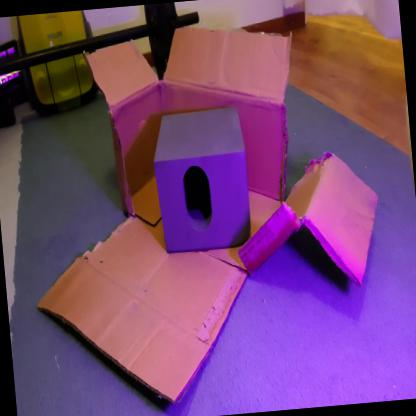CornerCasting: (146, 102, 254, 258)
